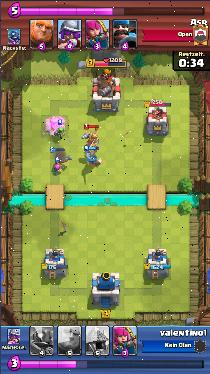EKingTower: (94, 69, 119, 111)
EPrince: (82, 124, 98, 147)
EnemyPrincessTower: (146, 104, 167, 134)
OArcher: (55, 162, 62, 175)
OKnight: (85, 145, 102, 164)
OMusk: (56, 149, 71, 163)
OSpearGoblin: (54, 129, 64, 138)
OwnKingTower: (93, 273, 118, 305)
OwnPrincessTower: (144, 247, 170, 276), (41, 249, 67, 278)
TowerDown: (42, 115, 69, 135)
